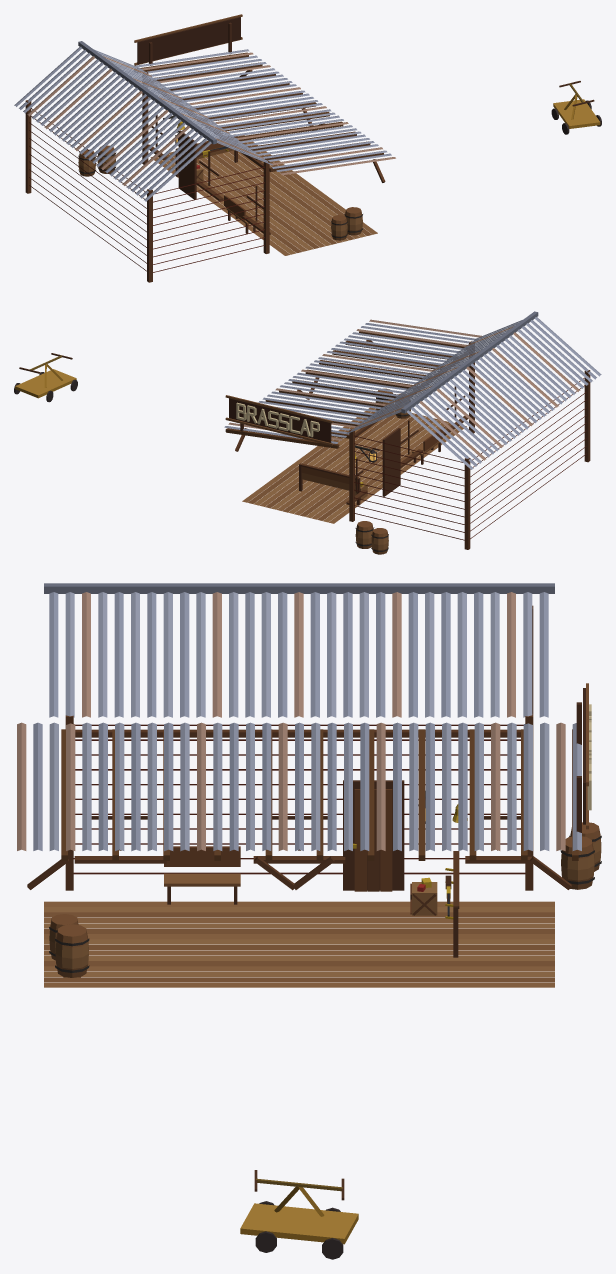
The model's file is depot.glb.
3 renders of one model, top to bottom at view 1: azimuth 30°, elevation 25°; view 2: azimuth 150°, elevation 25°; view 3: azimuth 270°, elevation 25°, orthographic. The views are drawn at different scales.
Parts seen in each view (by area): view 1: depot; view 2: depot; view 3: depot.
Boxes of the visible parts, <box> form: depot: <box>14,14,601,282</box>; depot: <box>14,311,601,554</box>; depot: <box>17,583,601,1259</box>.
Bounding box in the file's own units: 22.15 × 5.8 × 11.51.
